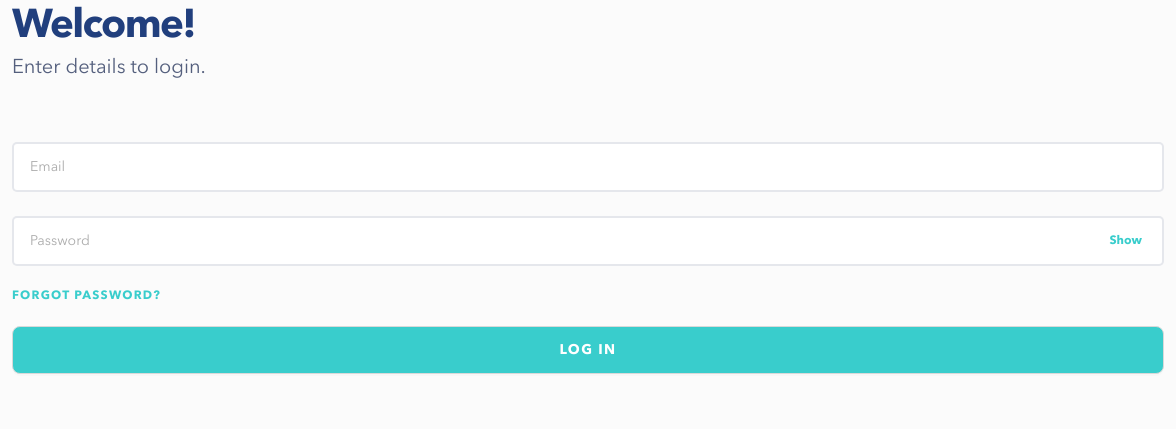
Test: Login Form › should show `Email not valid` error message for wrong email address
In the field with placeholder "Email": (588, 167) [12,142,1164,192], type "Testing"
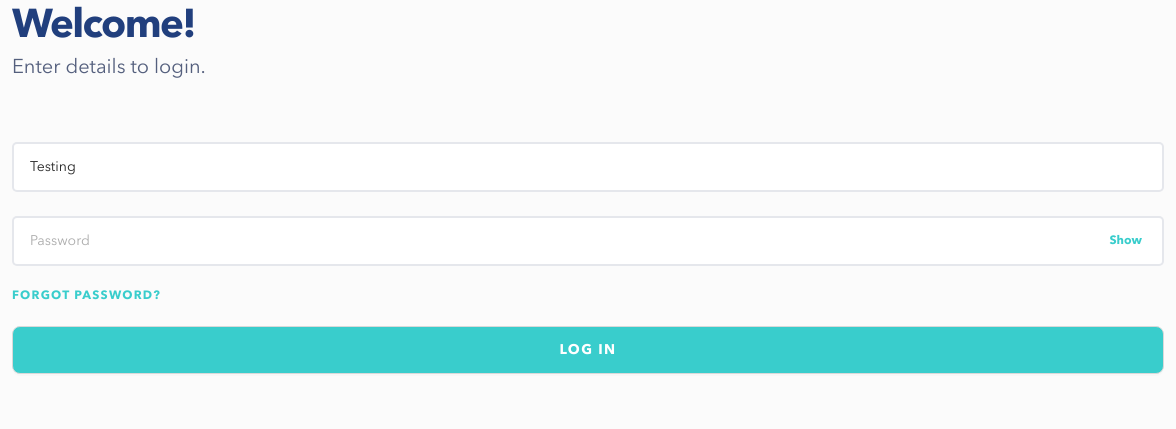
Note: Click button to trigger submit event
Click the button "Log in": (588, 350) [12,326,1164,374]
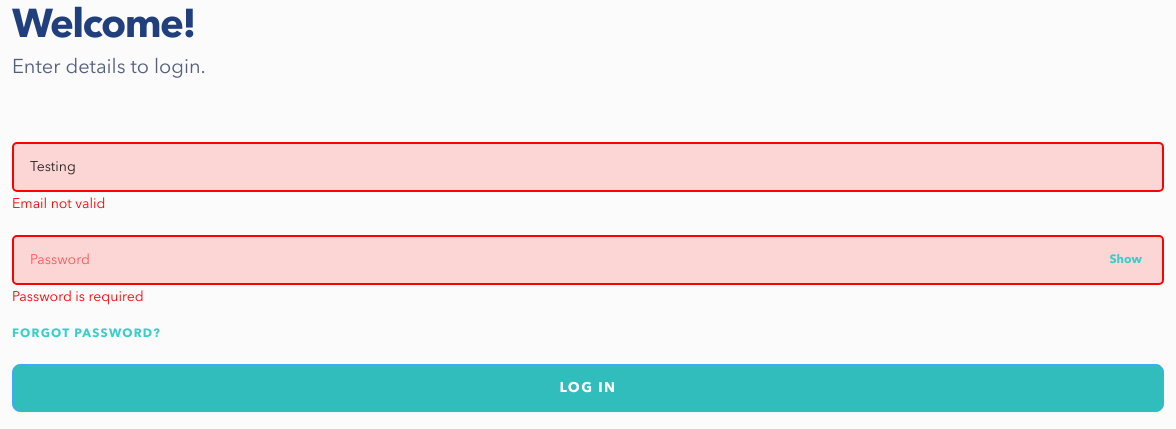
Check: the text "Email not valid" is shown, box [12,197,106,211]
